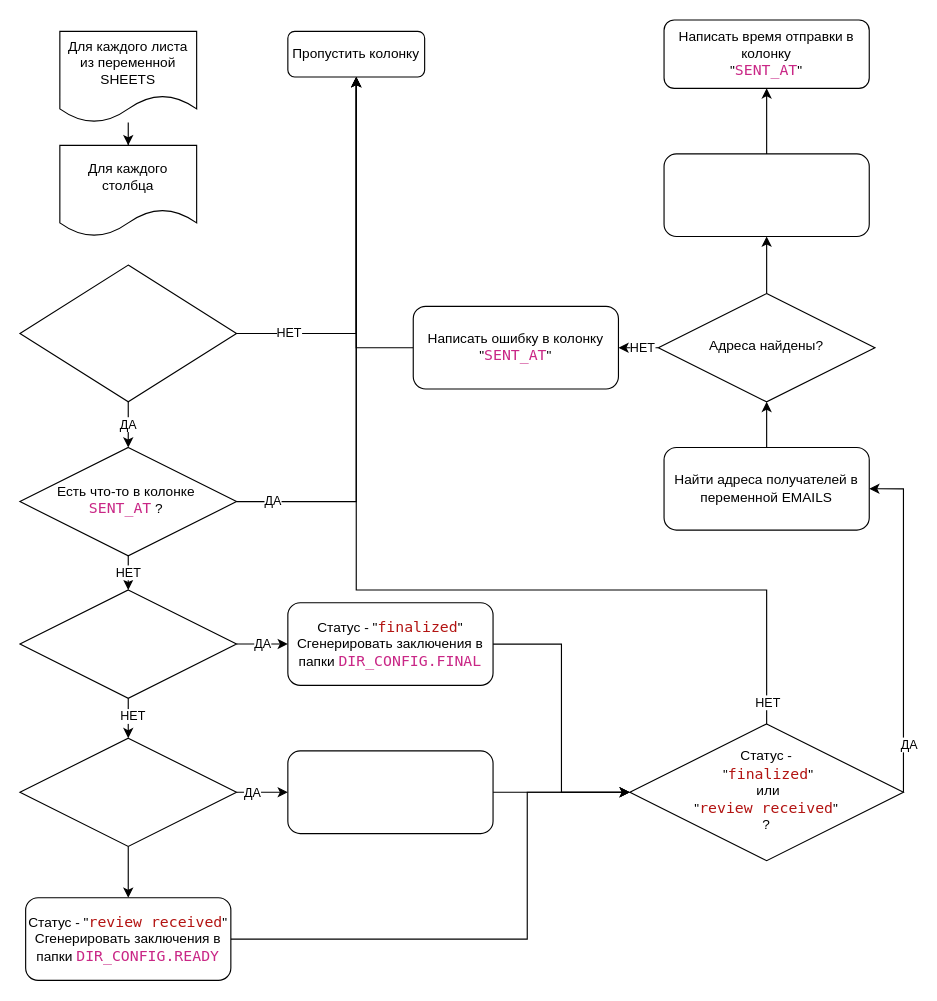
Image size: 937x1001. Some labels were removed from this diagram. The shapes that lost their labels are listed below. From the top down, each one's box as (x1, y1, x2, y2) in pixels, then its label:
(663, 153, 869, 237): Отправить письма
(19, 264, 237, 402): Есть что-то в колонке READY_TO_SEND ?
(19, 589, 237, 698): Колонка NSPC_DIAGNOSIS пуста?
(19, 737, 237, 846): В колонке NSPC_DIAGNOSIS написано "пересмотр"?
(287, 750, 493, 834): Статус - " sent to review " Сгенерировать заключения в папки DIR_CONFIG.REVIEW
